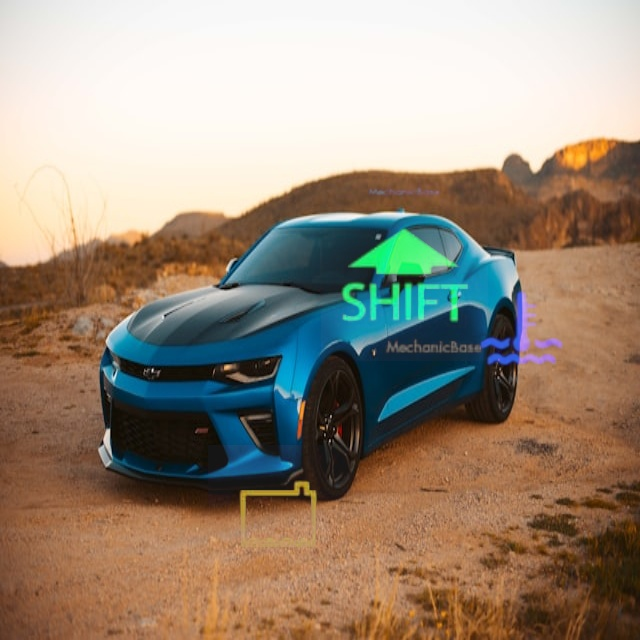symbol: (321, 194, 488, 361), (208, 445, 349, 586), (319, 76, 445, 202), (461, 268, 582, 389)
